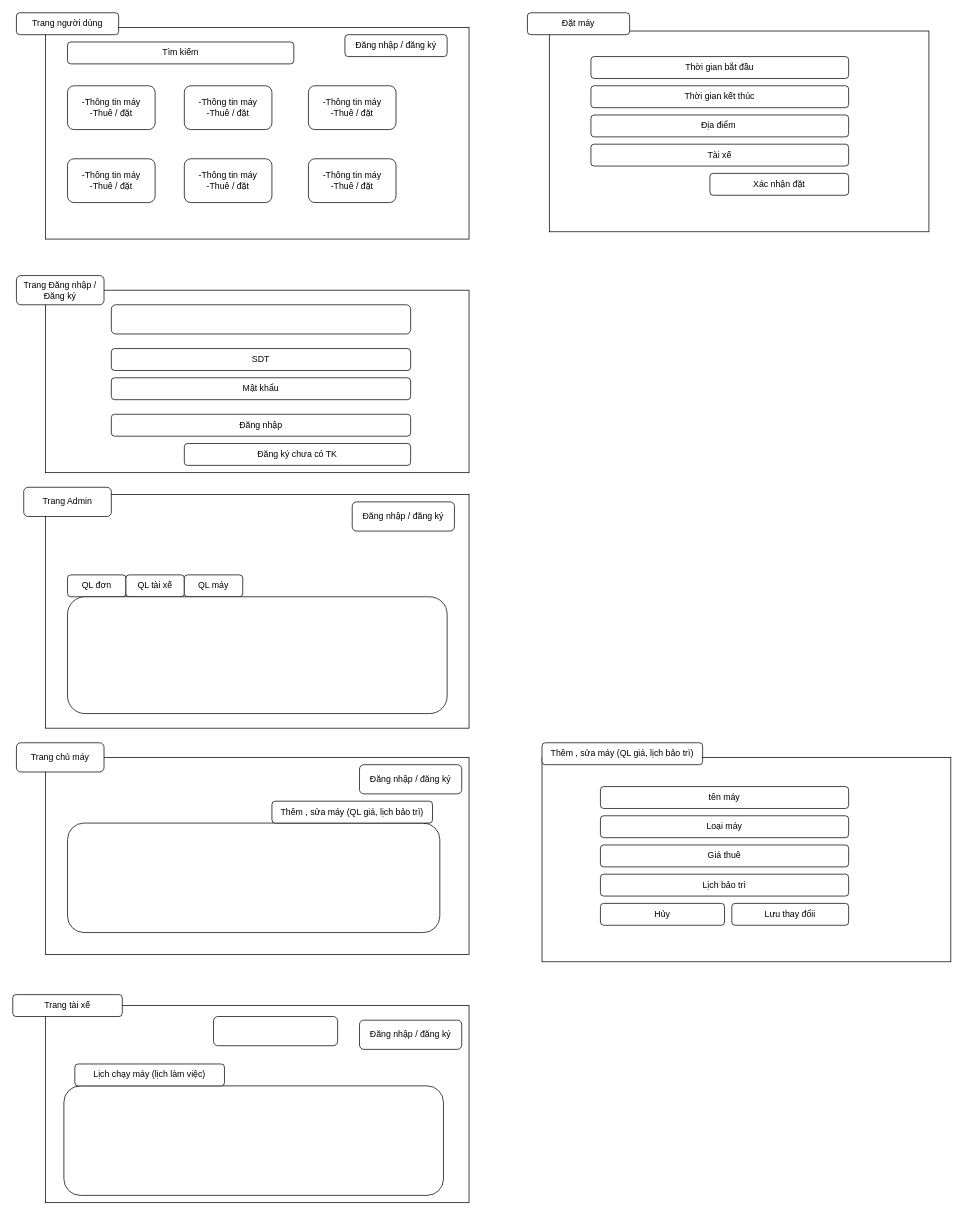
This 964x1215 diagram has some shape labels left out. Here are the shapes that lost their labels. From the top down, the centre of each, then its label:
the point at 261,319: Hệ thống cho thuê máy nông nghiệp
the point at 275,1031: Phiếu xin lái
